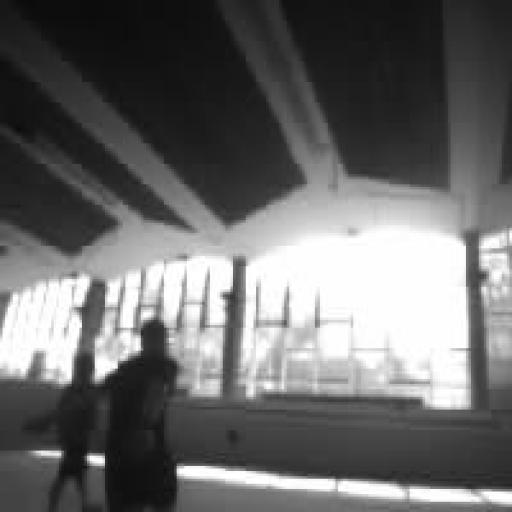human: (103, 318, 179, 511), (26, 354, 97, 511)
